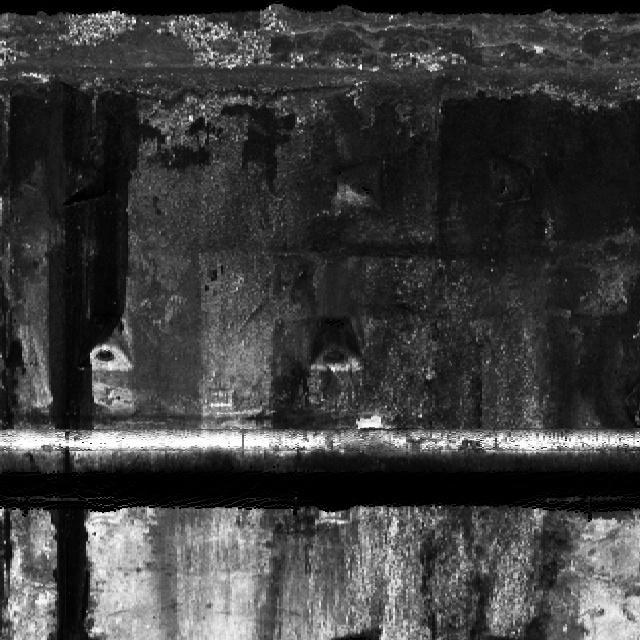leakage: (265, 96, 639, 428), (0, 82, 139, 427), (261, 506, 589, 639), (38, 494, 109, 639), (0, 502, 18, 636)
